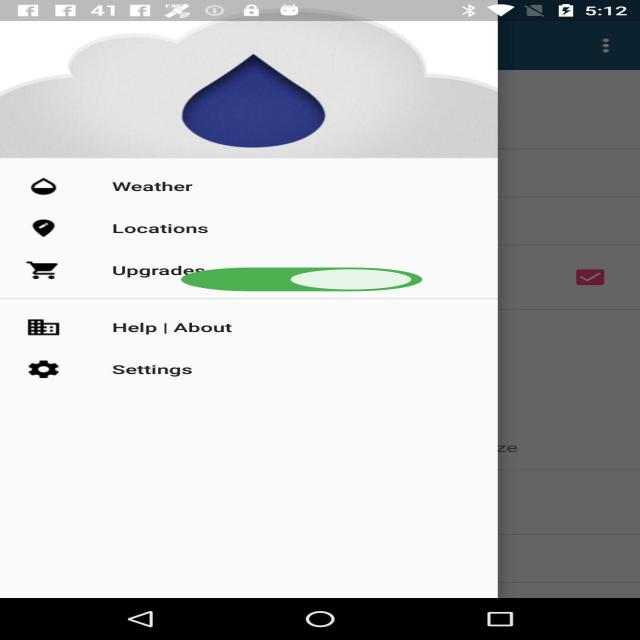social proof: (170, 258, 433, 302)
